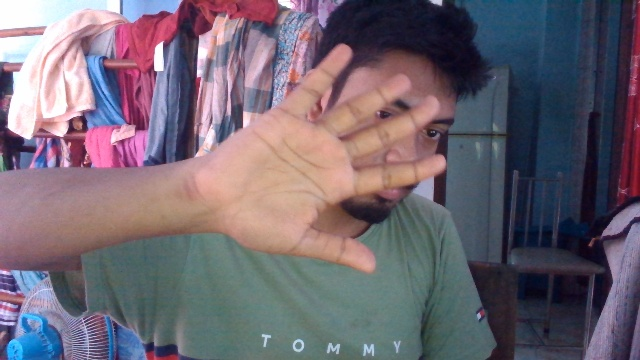hello: (188, 54, 448, 287)
